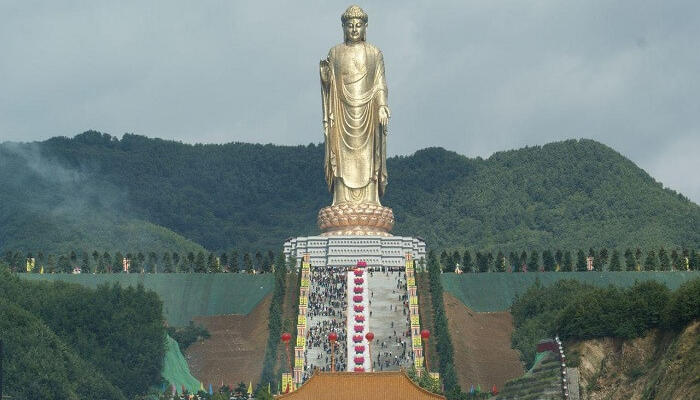person-like: (311, 3, 397, 229)
